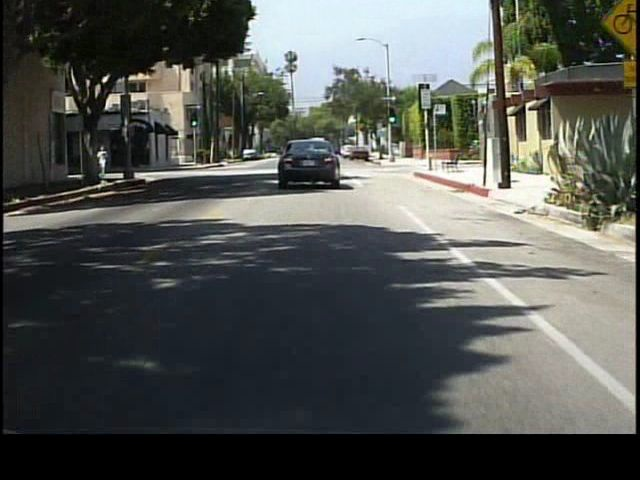person: (99, 141, 111, 180)
